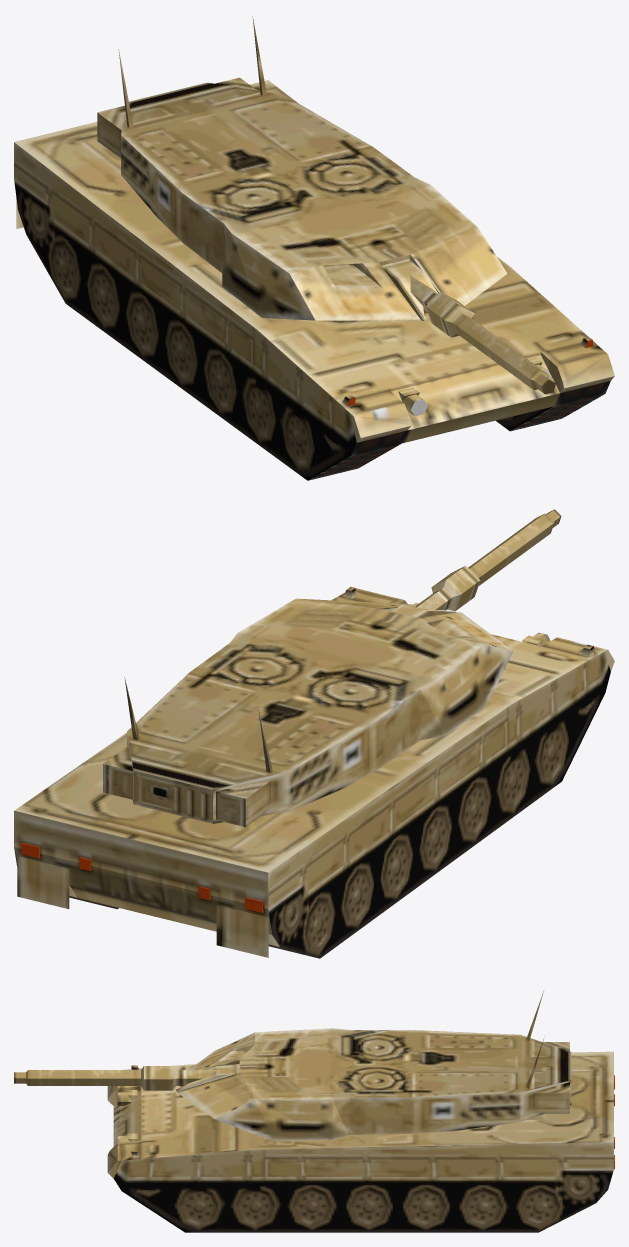
File: Leopard.dae
3 views of the same model, one above another, from view 1: azimuth 30°, elevation 25°; view 2: azimuth 150°, elevation 25°; view 3: azimuth 270°, elevation 25° (orthographic). The views are drawn at different scales.
Visible parts, largest first — view 1: Hull, Turret, Barrel; view 2: Hull, Turret, Barrel, Red_Lights; view 3: Hull, Turret, Barrel.
Boxes of the visible parts, <box> form: Hull: <box>14,80,614,480</box>; Turret: <box>97,16,507,320</box>; Barrel: <box>409,275,555,394</box>; Hull: <box>14,587,614,958</box>; Turret: <box>103,598,513,827</box>; Barrel: <box>415,509,561,611</box>; Red_Lights: <box>21,587,594,912</box>; Hull: <box>107,1051,613,1232</box>; Turret: <box>176,991,571,1141</box>; Barrel: <box>14,1066,219,1090</box>.
Bounding box in the file's own units: 1.09 × 3.05 × 0.9813.
5 materials, 5 textured.
